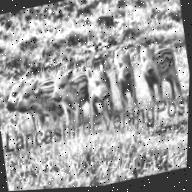boar: (131, 32, 186, 112), (80, 63, 121, 141), (50, 63, 95, 130), (14, 77, 66, 132), (108, 43, 143, 108), (0, 74, 23, 113)
